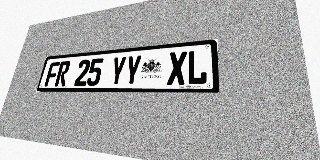2: (74, 59, 91, 86)
5: (86, 58, 104, 86)
F: (44, 62, 60, 86)
L: (186, 49, 207, 85)
R: (54, 61, 71, 86)
X: (167, 51, 187, 85)
Y: (108, 56, 127, 86), (123, 55, 142, 85)
